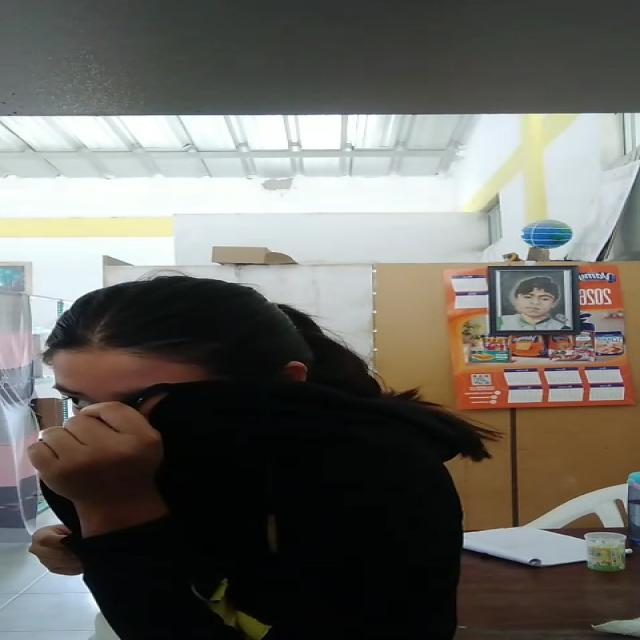8_ropa_rostro: (24, 377, 398, 537)
